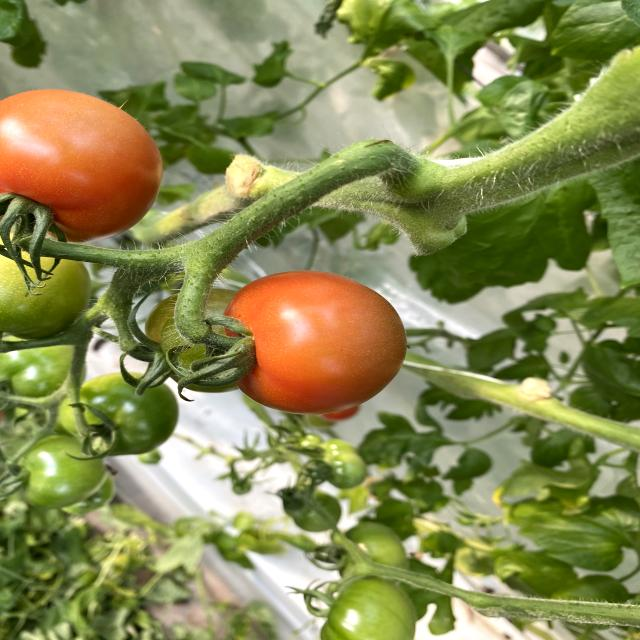ripe2: (235, 269, 406, 417), (0, 90, 166, 240)
